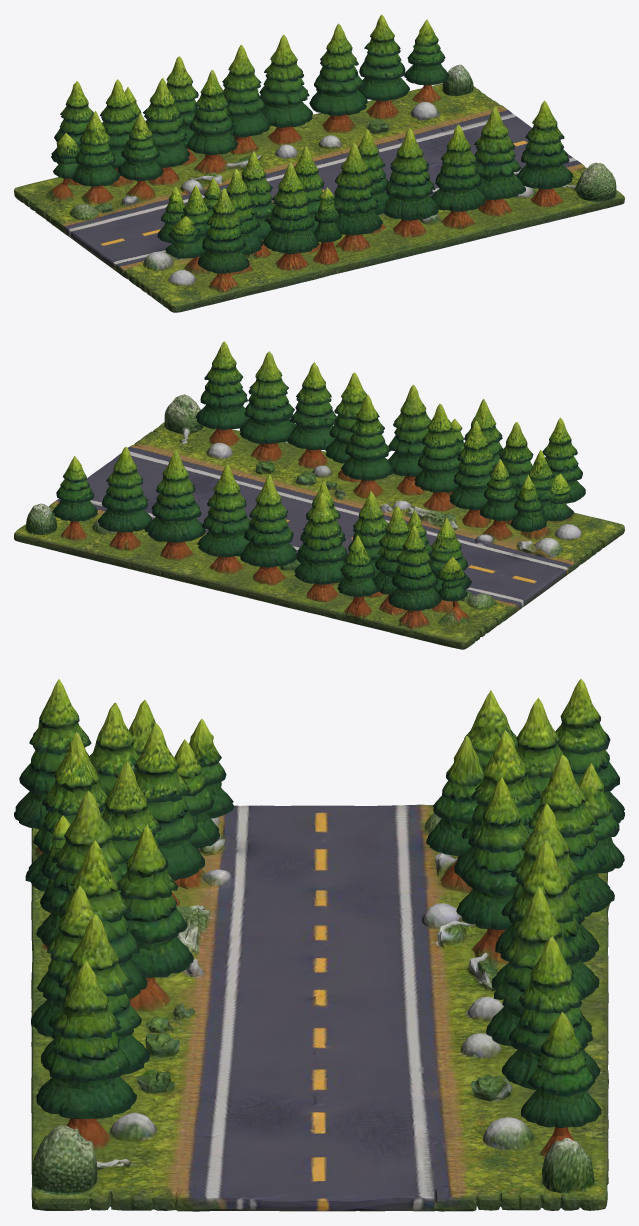
Rendered from road+scene+3d+model.glb.
3 views of the same model, one above another, from view 1: azimuth 30°, elevation 25°; view 2: azimuth 150°, elevation 25°; view 3: azimuth 270°, elevation 25° (orthographic). The views are drawn at different scales.
Visible parts, largest first — view 1: tripo_node_948a18ef-6fa1-4dac-9bae-b2390d542709; view 2: tripo_node_948a18ef-6fa1-4dac-9bae-b2390d542709; view 3: tripo_node_948a18ef-6fa1-4dac-9bae-b2390d542709.
Boxes of the visible parts, x1,y1,x2,y2 form: tripo_node_948a18ef-6fa1-4dac-9bae-b2390d542709: (14, 14, 624, 312); tripo_node_948a18ef-6fa1-4dac-9bae-b2390d542709: (14, 341, 624, 649); tripo_node_948a18ef-6fa1-4dac-9bae-b2390d542709: (14, 679, 624, 1211).
Bounding box in the file's own units: 0.9995 × 0.2406 × 0.6544.
1 material, 1 textured.
